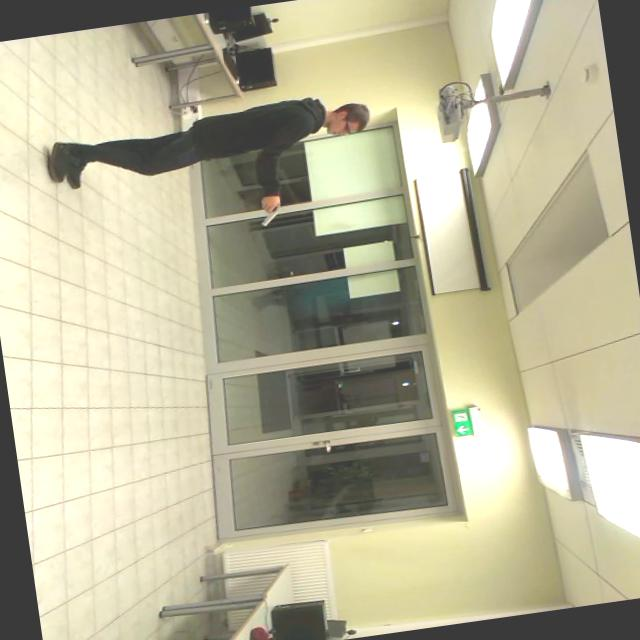handgun: (246, 193, 298, 237)
